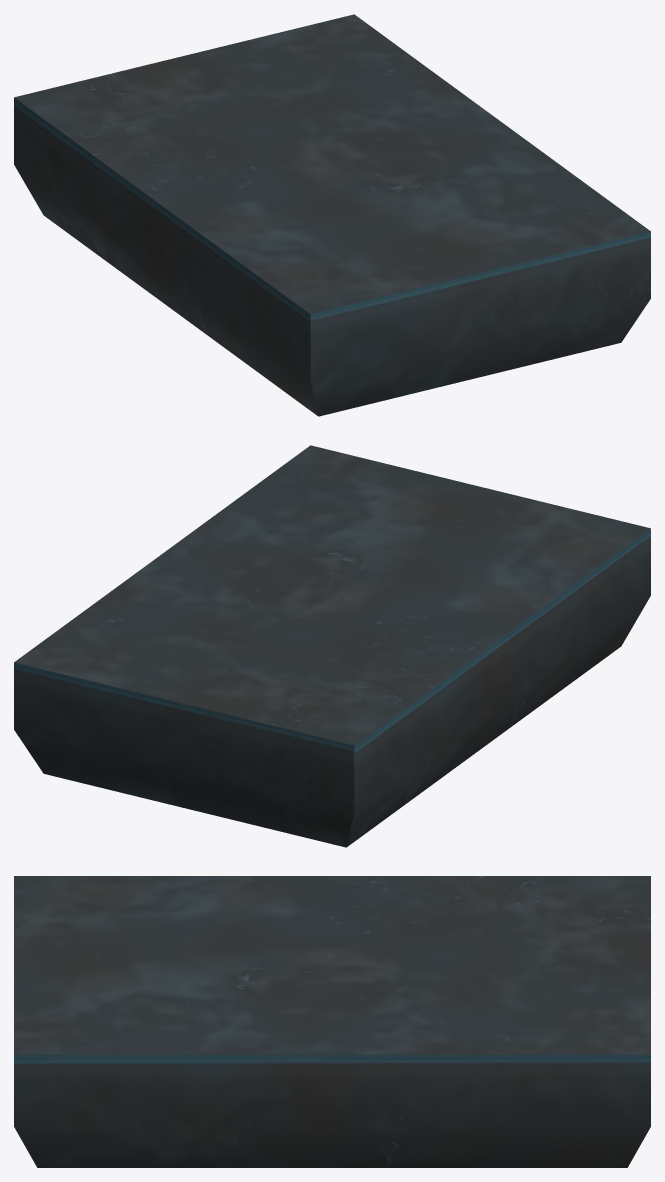
File: Cathedral_Arch_Platform_1.fbx
The picture shows the model from 3 angles, top to bottom: view 1: azimuth 30°, elevation 25°; view 2: azimuth 150°, elevation 25°; view 3: azimuth 270°, elevation 25°; orthographic projection. The views are drawn at different scales.
Visible parts, largest first — view 1: Arch_Platform_1; view 2: Arch_Platform_1; view 3: Arch_Platform_1.
Part boxes in pixels (bbox=[...]): Arch_Platform_1: bbox=[14, 14, 650, 416]; Arch_Platform_1: bbox=[14, 445, 650, 847]; Arch_Platform_1: bbox=[14, 876, 650, 1167].
Size of the model in its own units: 133 by 50 by 200.
Materials: 1 (1 with a texture image).
